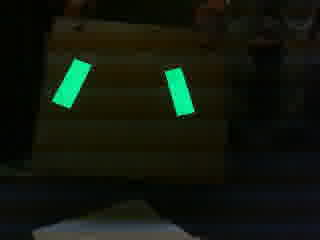target: (48, 53, 202, 116)
